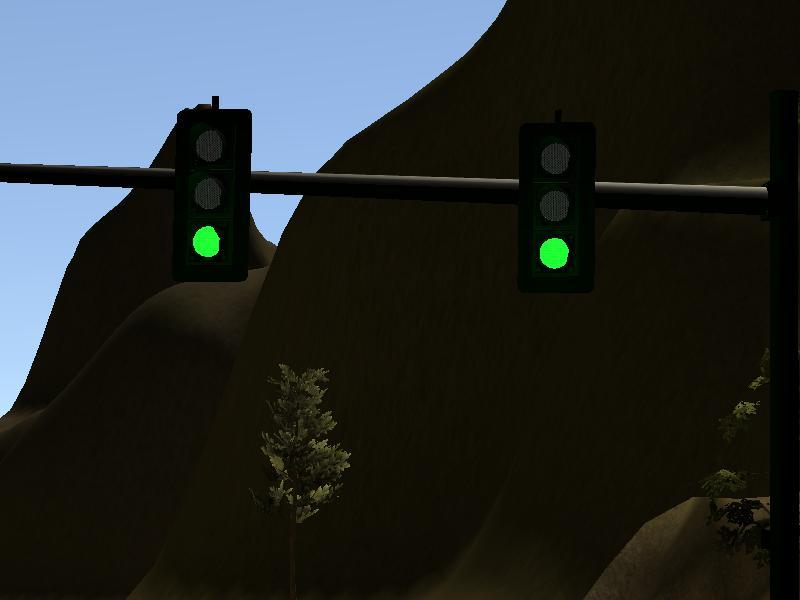Green: (172, 109, 250, 281), (517, 123, 595, 294)
